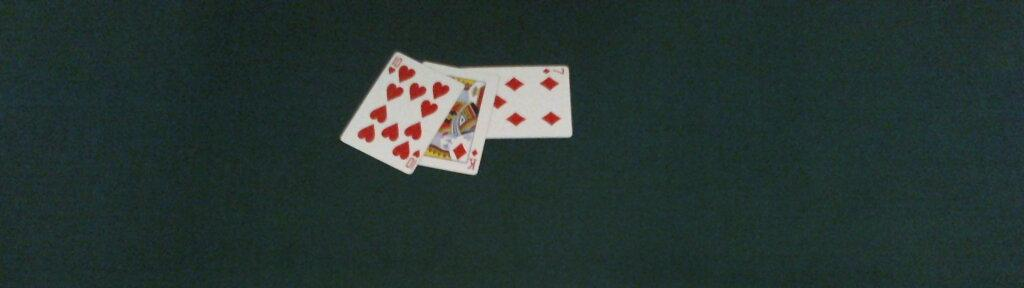king: (419, 59, 499, 176)
seven: (459, 65, 572, 138)
ten: (338, 51, 464, 175)
